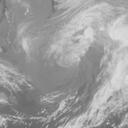cyclone: (43, 17, 94, 66)
